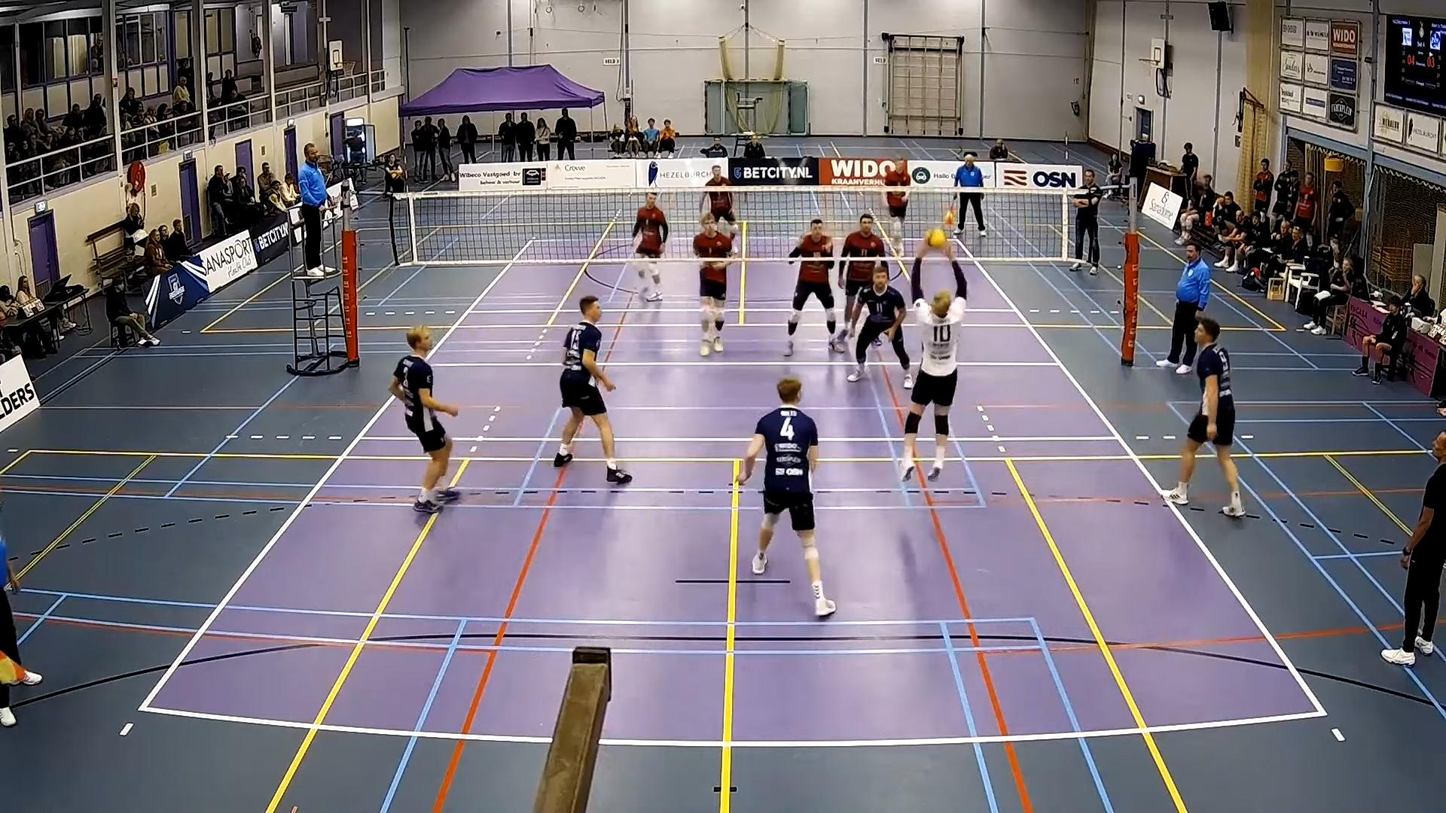Player: (737, 377, 835, 617), (1162, 315, 1243, 516), (554, 295, 632, 483), (389, 327, 459, 513), (784, 218, 844, 356), (847, 265, 914, 388), (837, 214, 886, 340), (693, 213, 732, 356), (633, 191, 669, 301), (883, 162, 910, 254), (703, 166, 737, 236)
Set: (906, 253, 978, 485)
ball: (926, 230, 956, 248)
